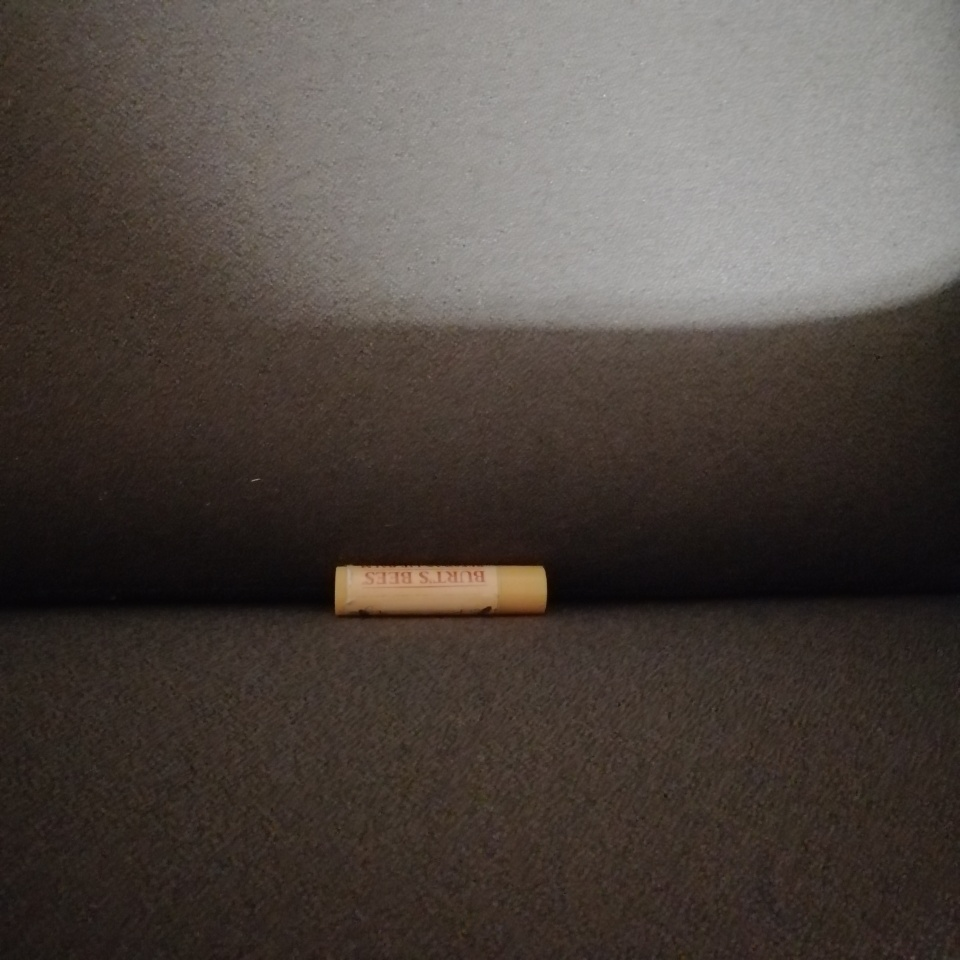chapstick: (332, 563, 551, 618)
